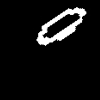chain: (37, 7, 85, 45)
